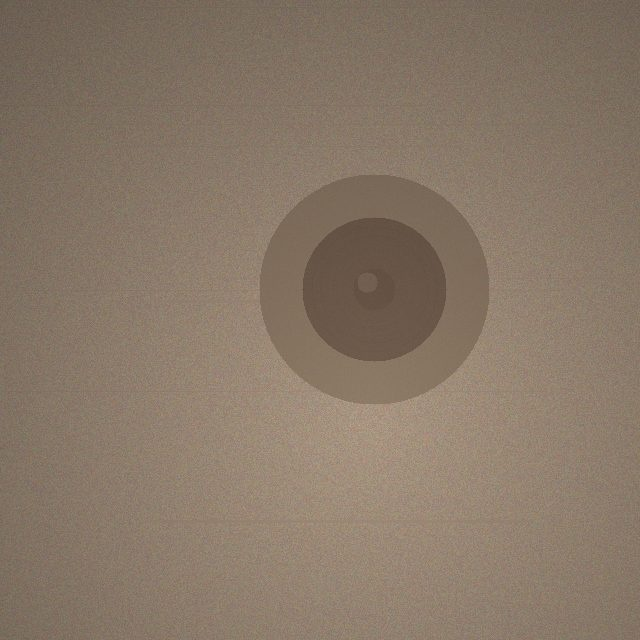good: (259, 174, 489, 404)
